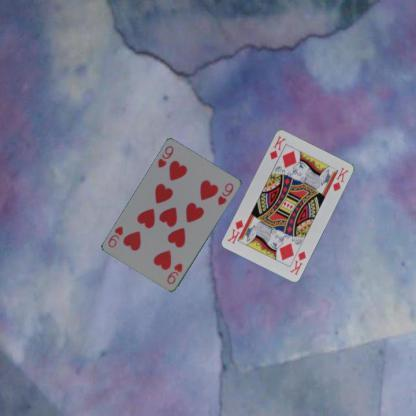9h: (155, 144, 175, 170), (164, 261, 184, 286)
Kd: (267, 132, 287, 162), (288, 249, 308, 276)
